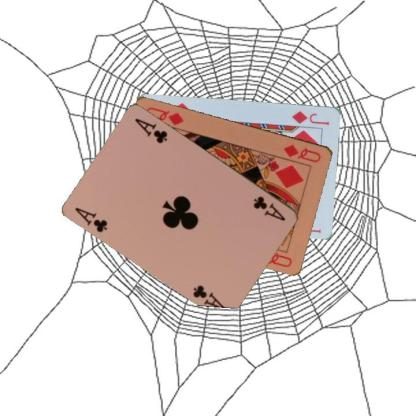Ac: (72, 204, 109, 234), (251, 194, 287, 223)
Jd: (290, 108, 331, 126)
Qd: (281, 141, 322, 163)
